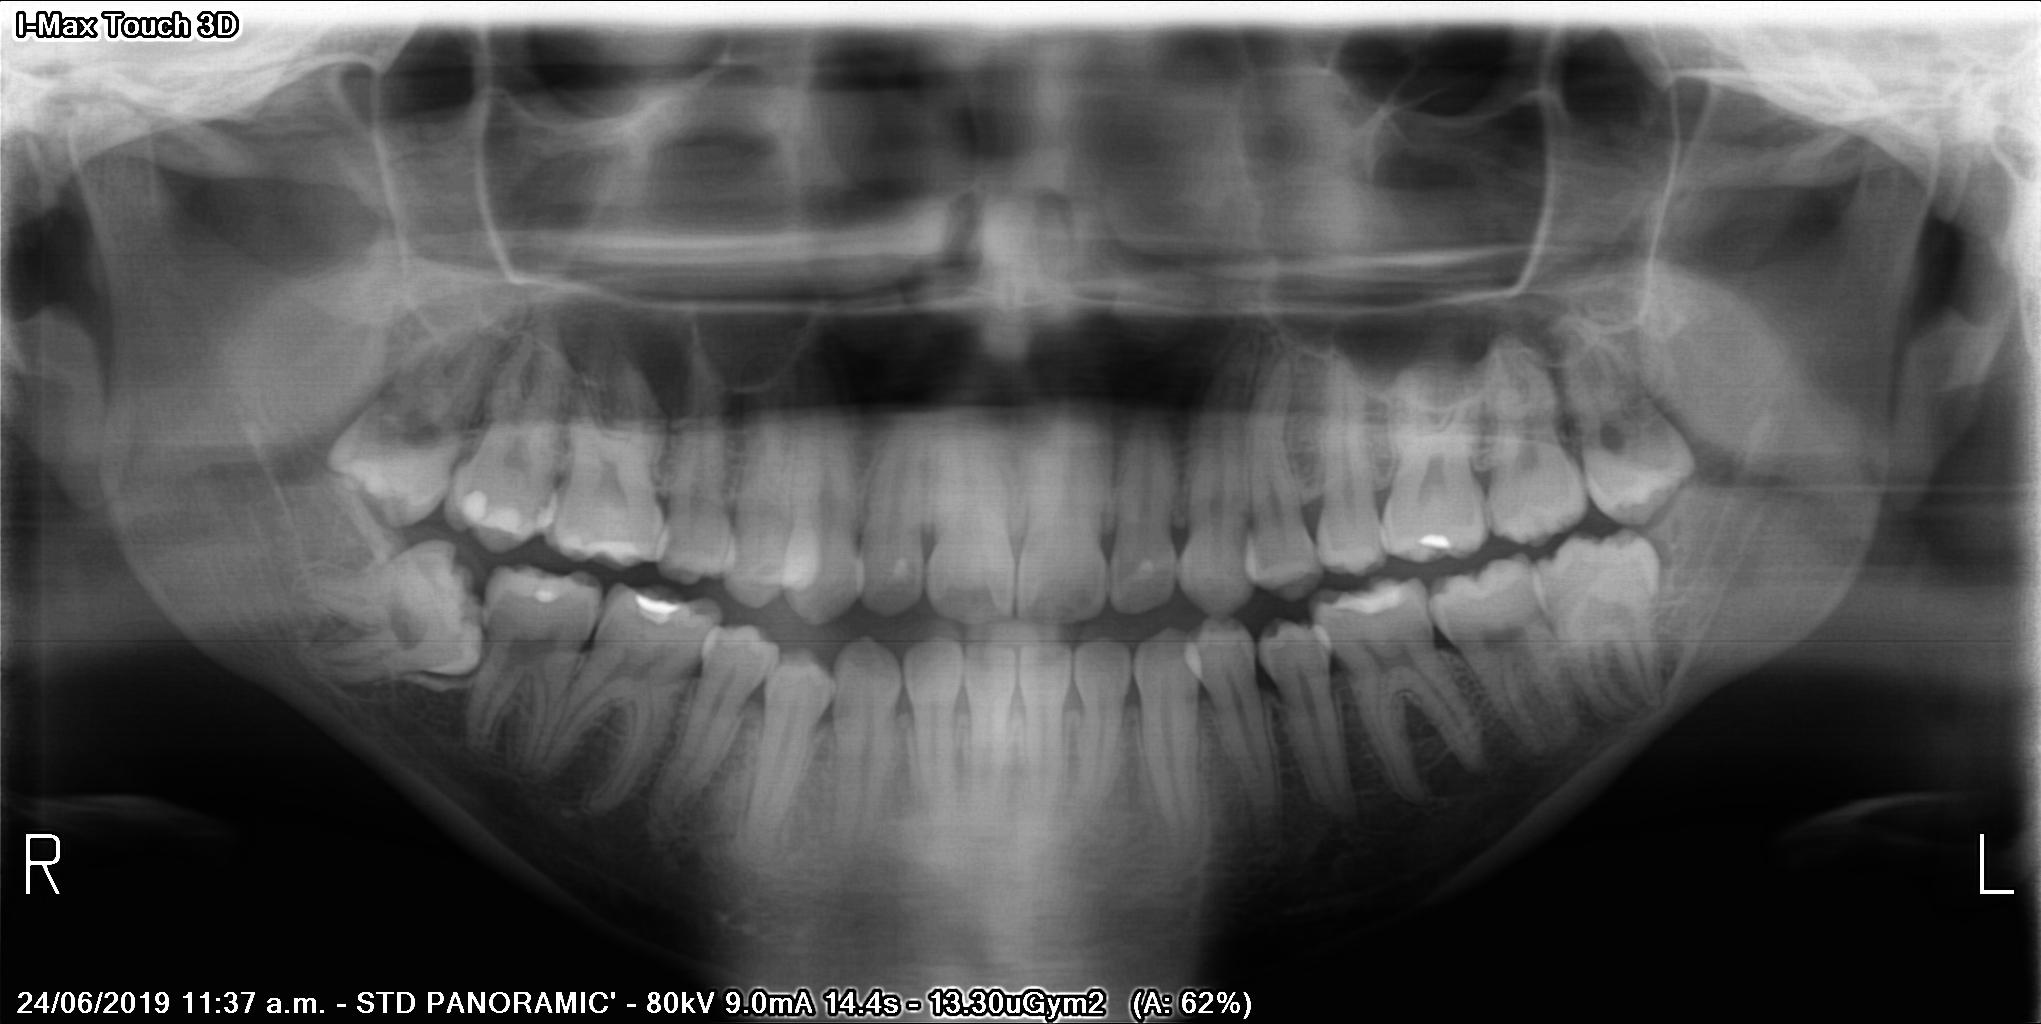Çürük: (451, 486, 562, 538), (1319, 571, 1418, 624), (556, 525, 675, 564), (1404, 521, 1469, 563), (619, 585, 693, 615), (1124, 542, 1167, 590), (516, 573, 568, 613), (881, 546, 915, 585)
Çürük Bölgesi: (417, 556, 453, 596), (639, 613, 689, 630), (1259, 623, 1290, 640)
